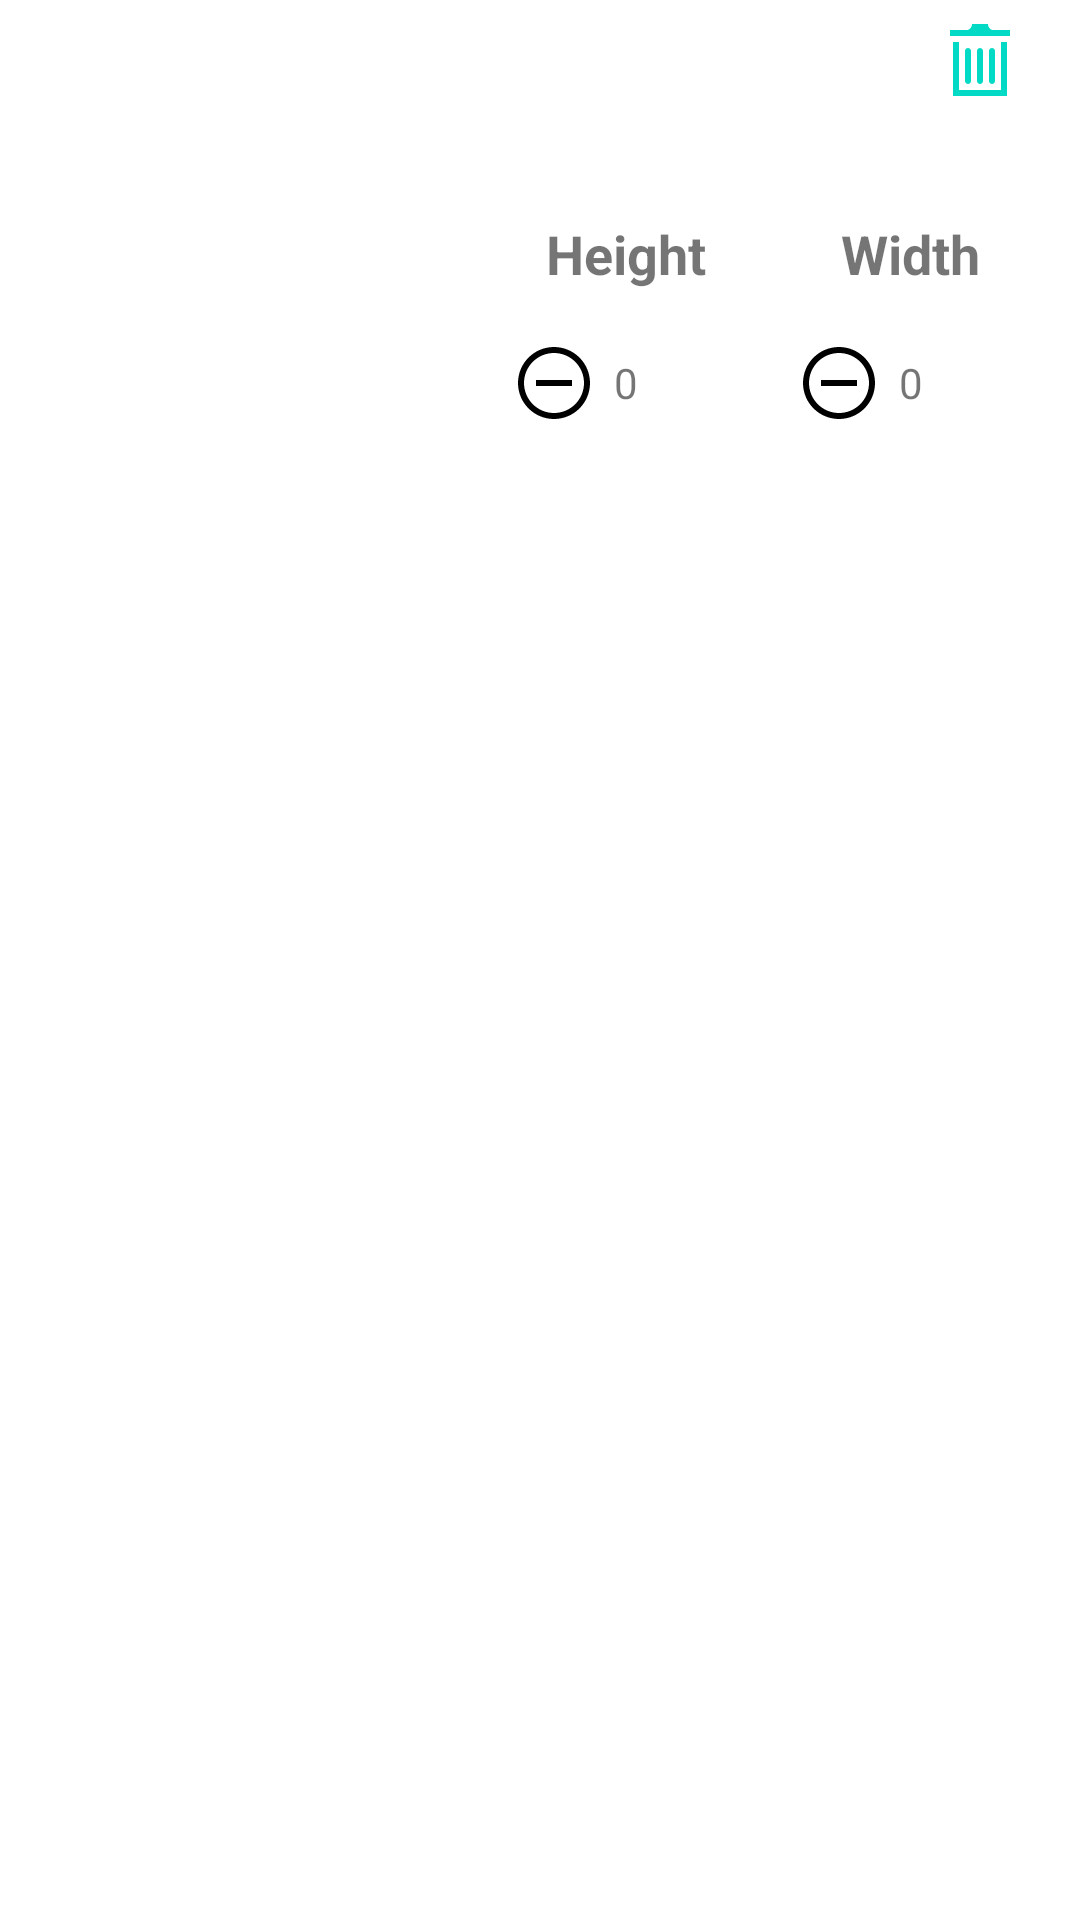

Point at icon controls on the screen. Image size 1080px×1920px, points as point (x, y).
minus: point (554, 383), point (839, 383)
trashcan: point (980, 60)
